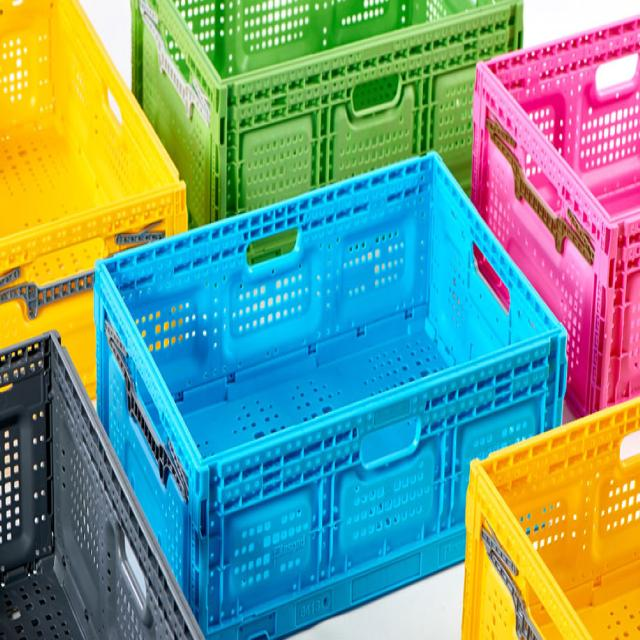basket: (44, 103, 633, 640), (132, 0, 523, 226), (0, 1, 187, 399), (0, 331, 202, 640), (464, 398, 640, 639)
